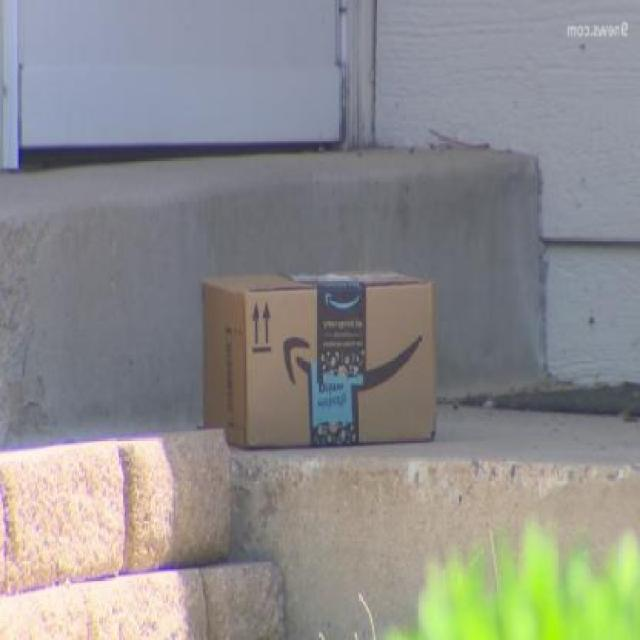cardboxes: (198, 254, 442, 458)
